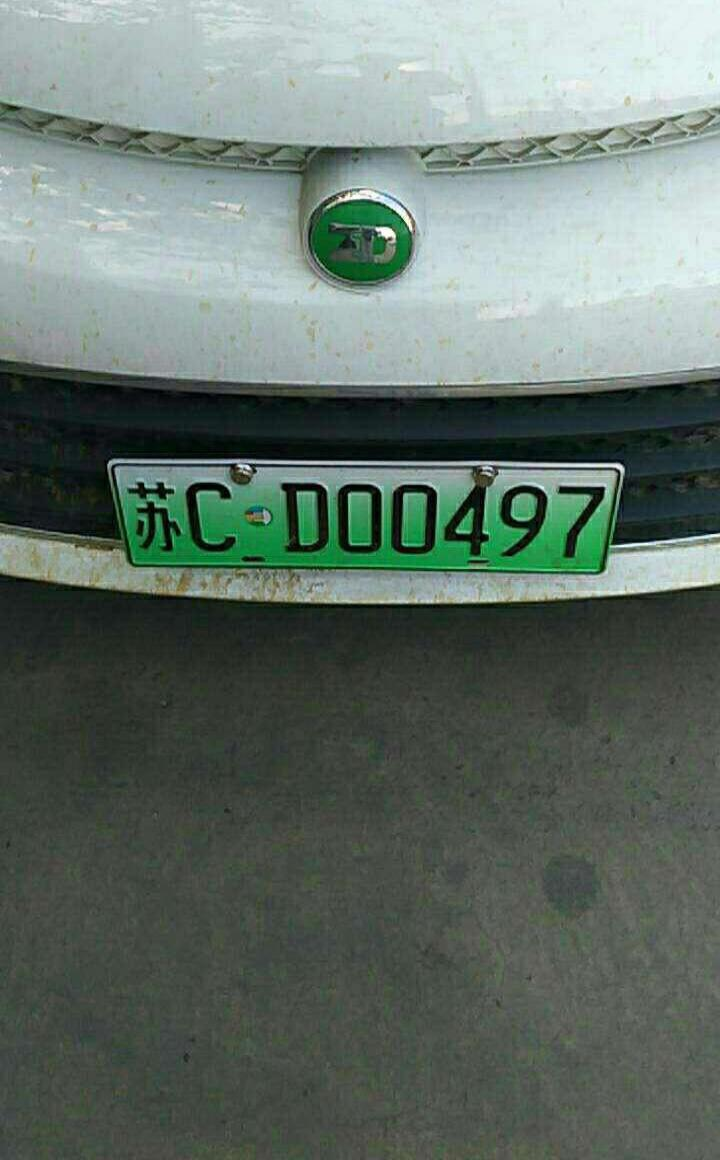car: (102, 458, 631, 585)
